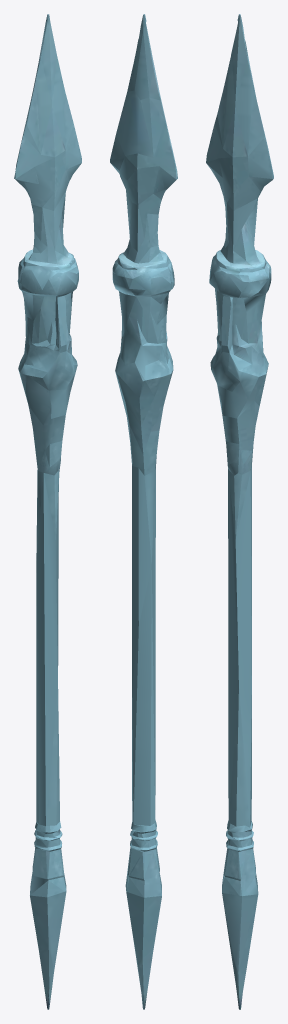
Rendered from fx_ice.glb.
The picture shows the model from 3 angles, left to right: view 1: azimuth 30°, elevation 25°; view 2: azimuth 150°, elevation 25°; view 3: azimuth 330°, elevation 25°; orthographic projection.
Bounding box in the file's own units: 0.1358 × 1.9 × 0.1075.
1 material, 1 textured.
